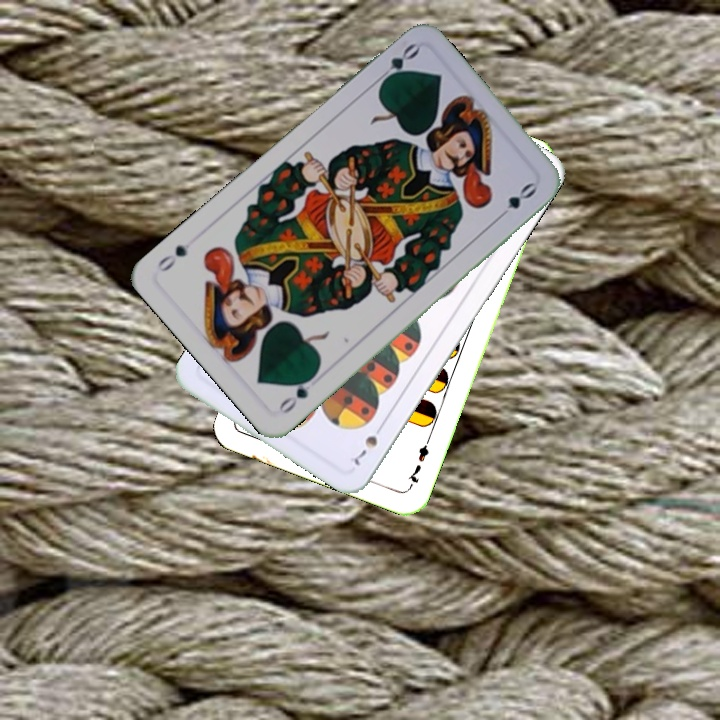E7: (404, 434, 433, 491)
GO: (371, 39, 422, 89), (274, 369, 319, 417)
S7: (350, 418, 387, 469)
